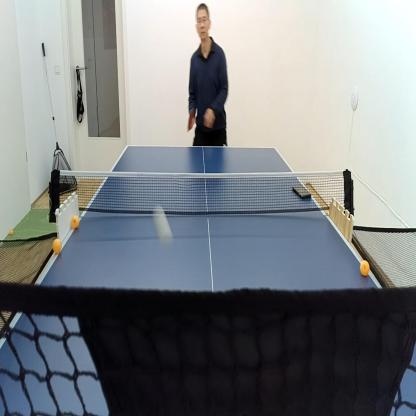Ball: (152, 204, 175, 252), (52, 237, 62, 255), (360, 259, 370, 277), (70, 214, 80, 230), (9, 228, 13, 236), (1, 241, 4, 248)
